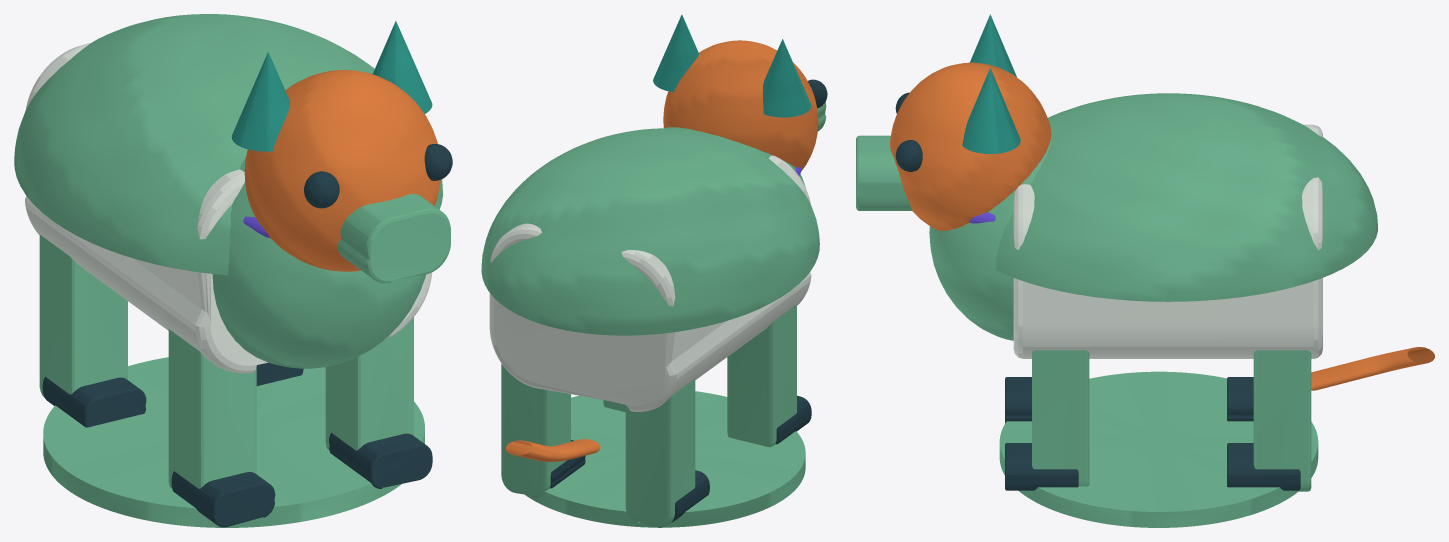
Rendered from 0901_森林动物图鉴_加拿大猞猁.glb.
3 views of the same model, side by side, from view 1: azimuth 30°, elevation 25°; view 2: azimuth 150°, elevation 25°; view 3: azimuth 270°, elevation 25° (orthographic). The views are drawn at different scales.
Visible parts, largest first — view 1: card_0901; view 2: card_0901; view 3: card_0901.
Boxes of the visible parts, <box> form: card_0901: <box>14,14,452,527</box>; card_0901: <box>481,14,827,527</box>; card_0901: <box>856,14,1434,527</box>.
Size of the model in its own units: 0.7623 by 1 by 1.26.
